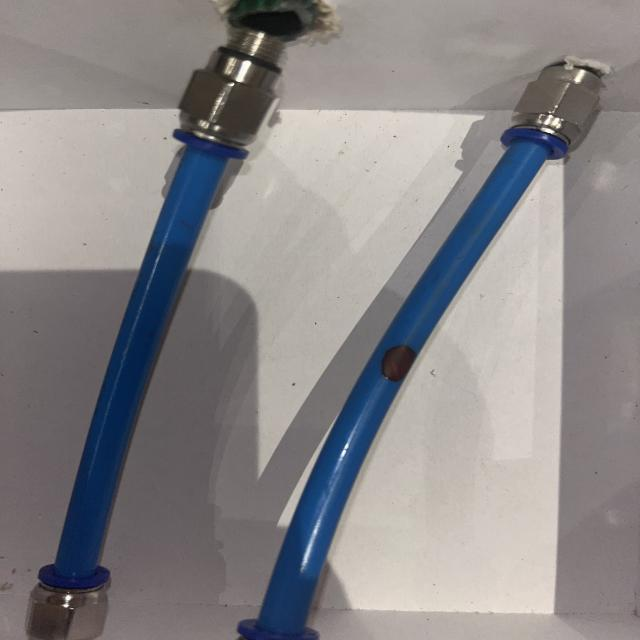hose_damage: (379, 343, 422, 384)
